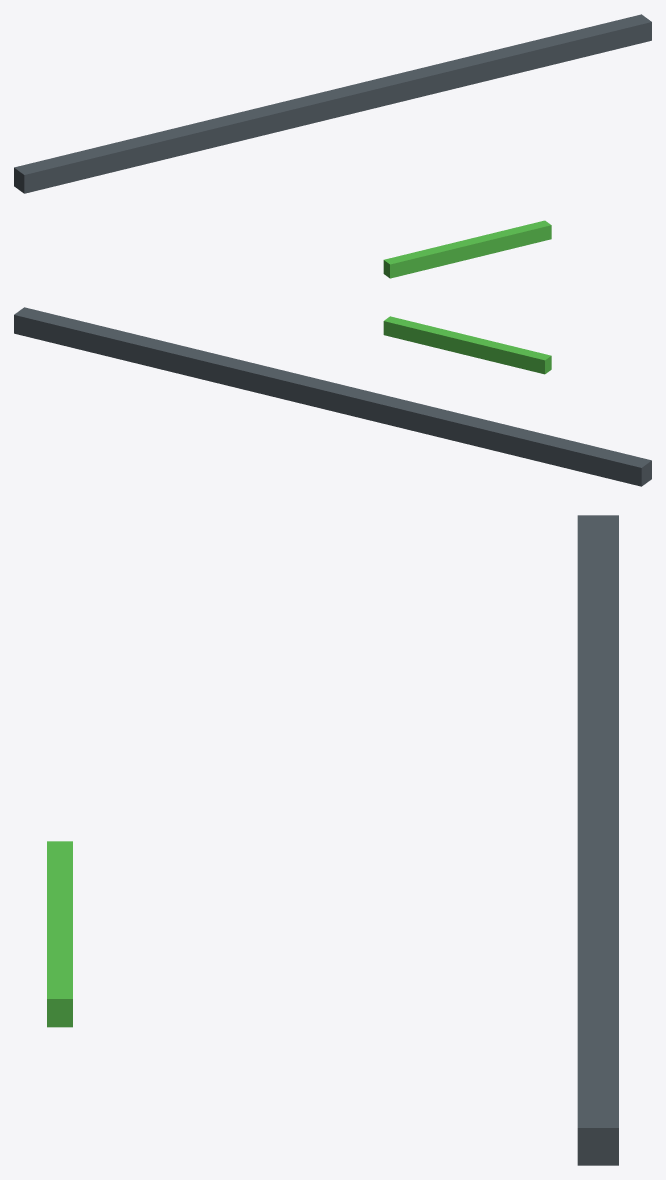
File: cover.medical_gurney_cover.glb
3 renders of one model, top to bottom at view 1: azimuth 30°, elevation 25°; view 2: azimuth 150°, elevation 25°; view 3: azimuth 270°, elevation 25°, orthographic. The views are drawn at different scales.
Visible parts, largest first — view 1: bed_rail, green_cross; view 2: bed_rail, green_cross; view 3: bed_rail, green_cross.
Boxes of the visible parts, x1,y1,x2,y2 form: bed_rail: [14, 14, 651, 193]; green_cross: [383, 220, 551, 278]; bed_rail: [14, 307, 651, 486]; green_cross: [383, 316, 551, 374]; bed_rail: [577, 515, 618, 1165]; green_cross: [47, 841, 72, 1027].
Size of what is drawn, in the model's own units: 2.8 by 0.27 by 1.1.
